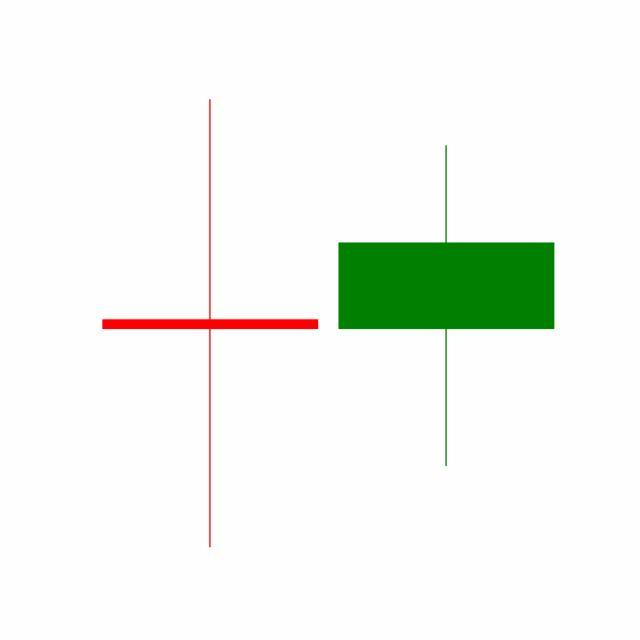Spinning Top: (328, 142, 566, 470)
